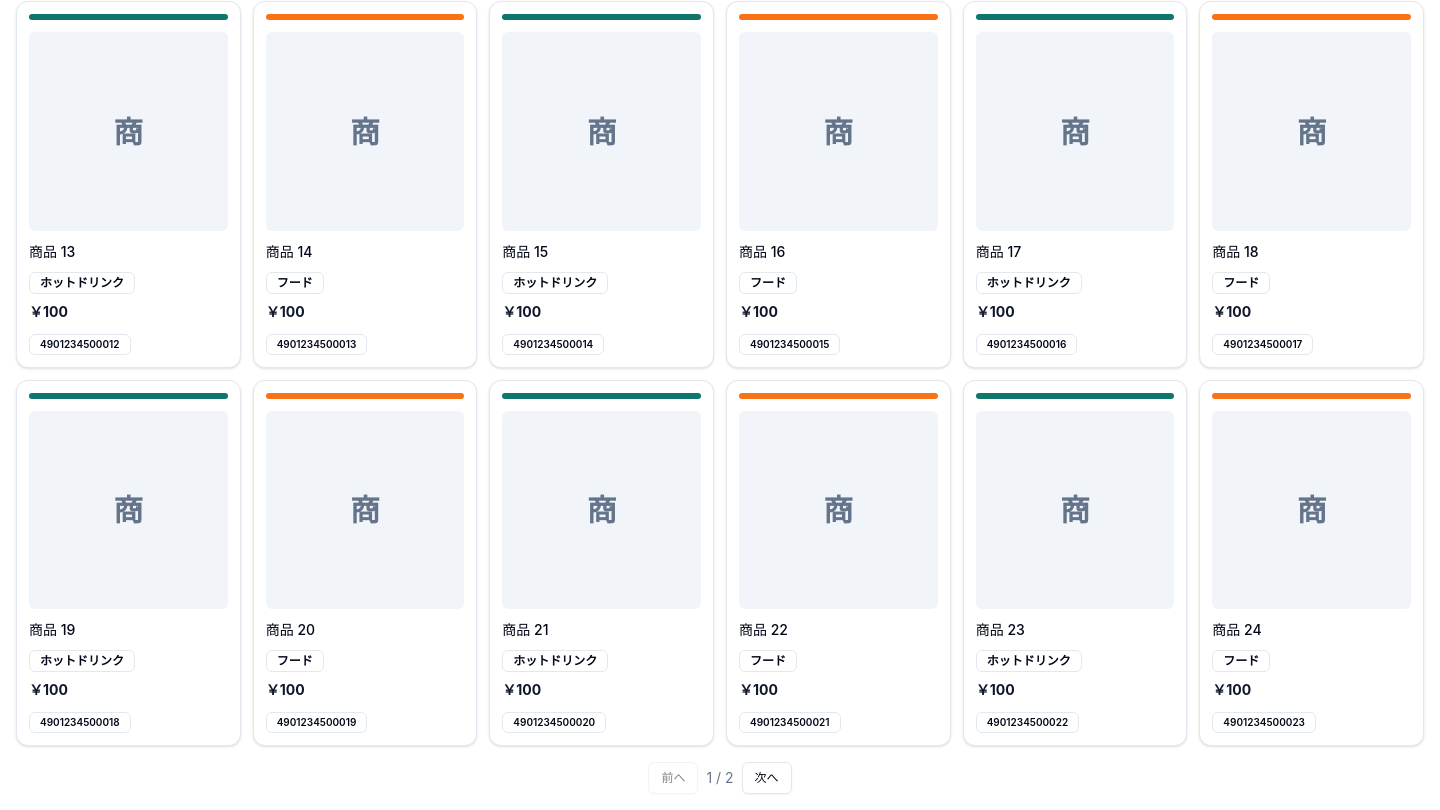
ProductsPage › ページネーションの前へボタンで前ページに戻る
The width and height of the screenshot is (1440, 810).
(page scrolled)
expect the text "1 / 2" is shown: met, box [706,768,734,788]
Click the button "次へ".
click(767, 778)  # box [742,762,792,794]
(page scrolled)
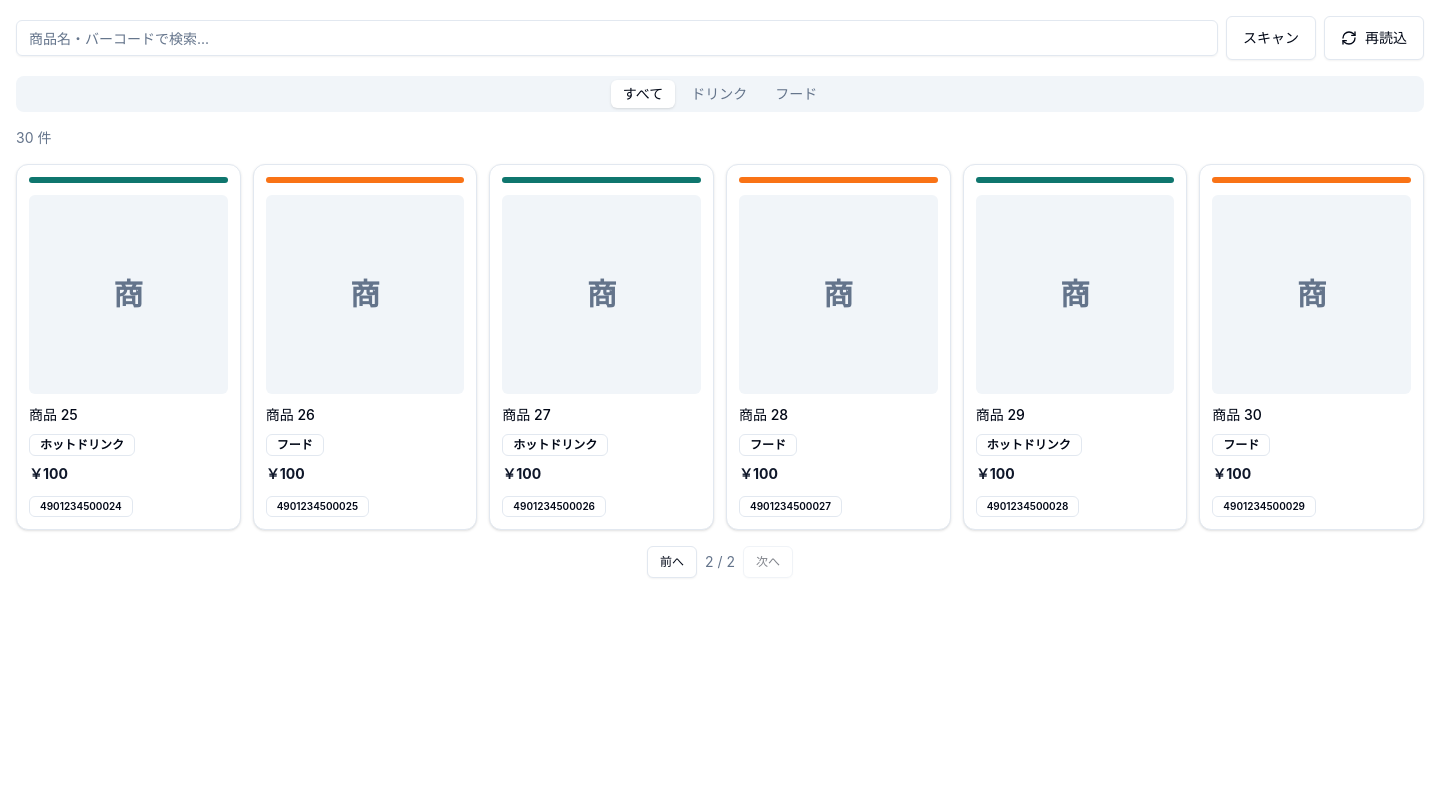
expect the text "2 / 2" is shown: met, box [705,552,735,572]
Click the button "前へ".
click(672, 562)  # box [647,546,697,578]
(page scrolled)
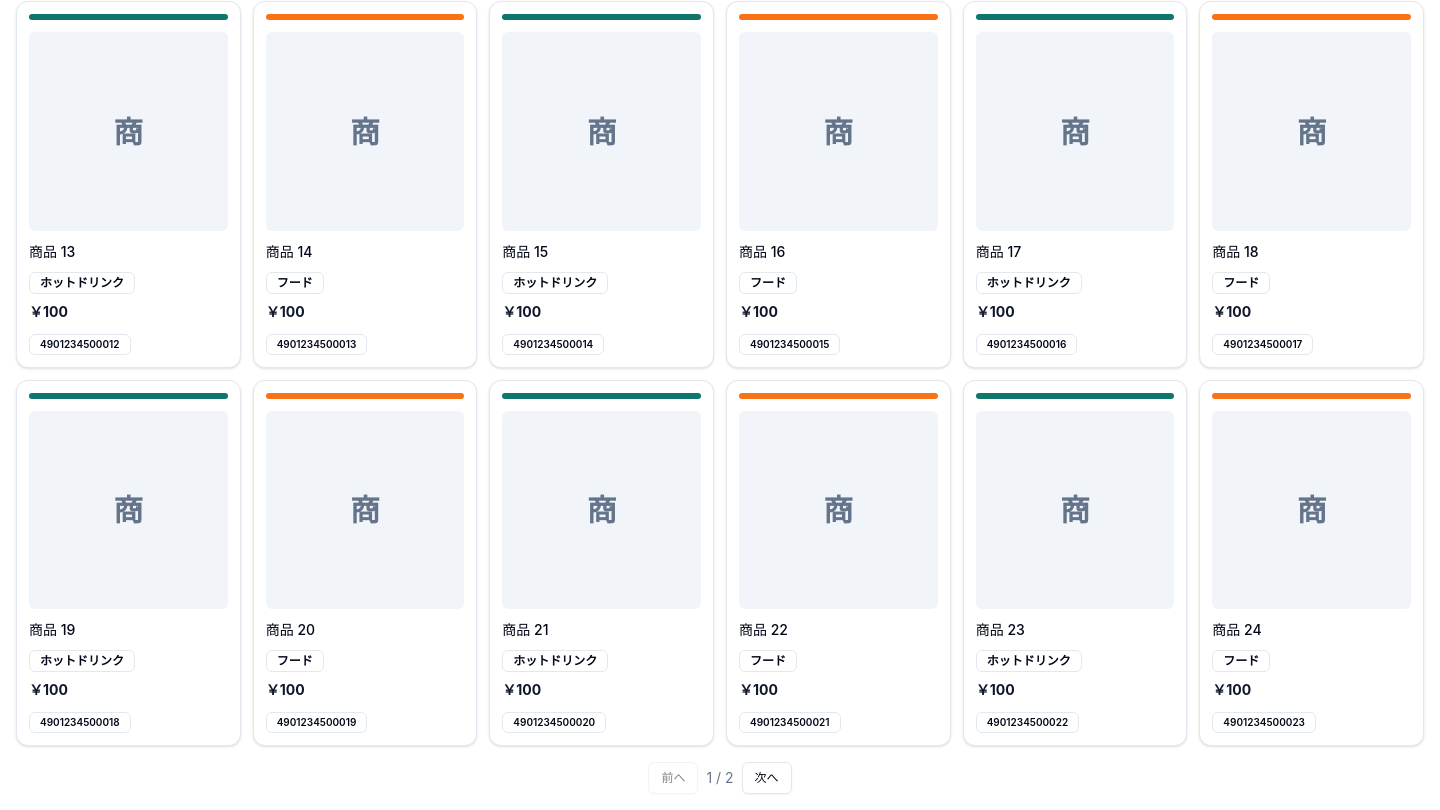
expect the text "1 / 2" is shown: met, box [706,768,734,788]
